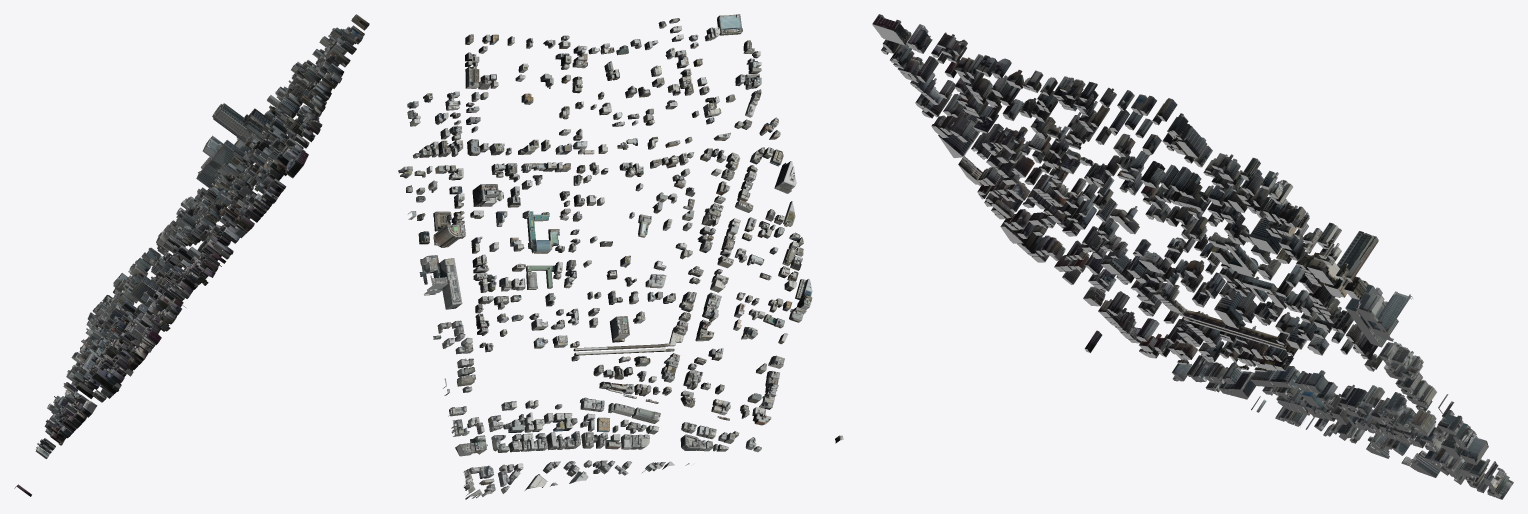
The model's file is 4942_bldg_Building.glb.
The picture shows the model from 3 angles, left to right: view 1: azimuth 30°, elevation 25°; view 2: azimuth 150°, elevation 25°; view 3: azimuth 270°, elevation 25°; orthographic projection. The views are drawn at different scales.
Bounding box in the file's own units: 1083 × 966 × 1170.
16 materials, 14 textured.
